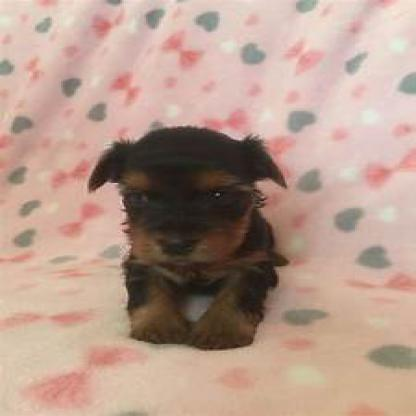dog: (83, 126, 274, 351)
